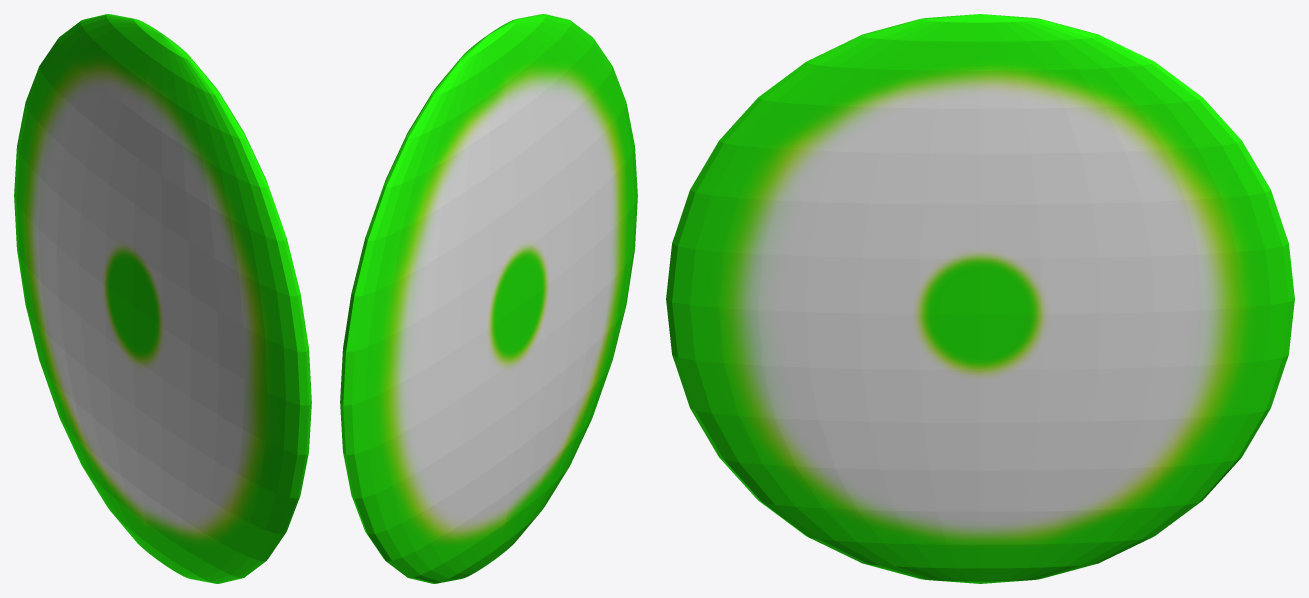
Rendered from targethit.glb.
3 renders of one model, left to right at view 1: azimuth 30°, elevation 25°; view 2: azimuth 150°, elevation 25°; view 3: azimuth 270°, elevation 25°, orthographic. The views are drawn at different scales.
Parts seen in each view (by area): view 1: Sphere; view 2: Sphere; view 3: Sphere.
Part boxes in pixels (x1,y1,x2,y2): Sphere: (14,14,311,583); Sphere: (340,14,637,583); Sphere: (666,14,1294,583).
Bounding box in the file's own units: 0.24 × 2 × 2.
Materials: 1 (1 with a texture image).
